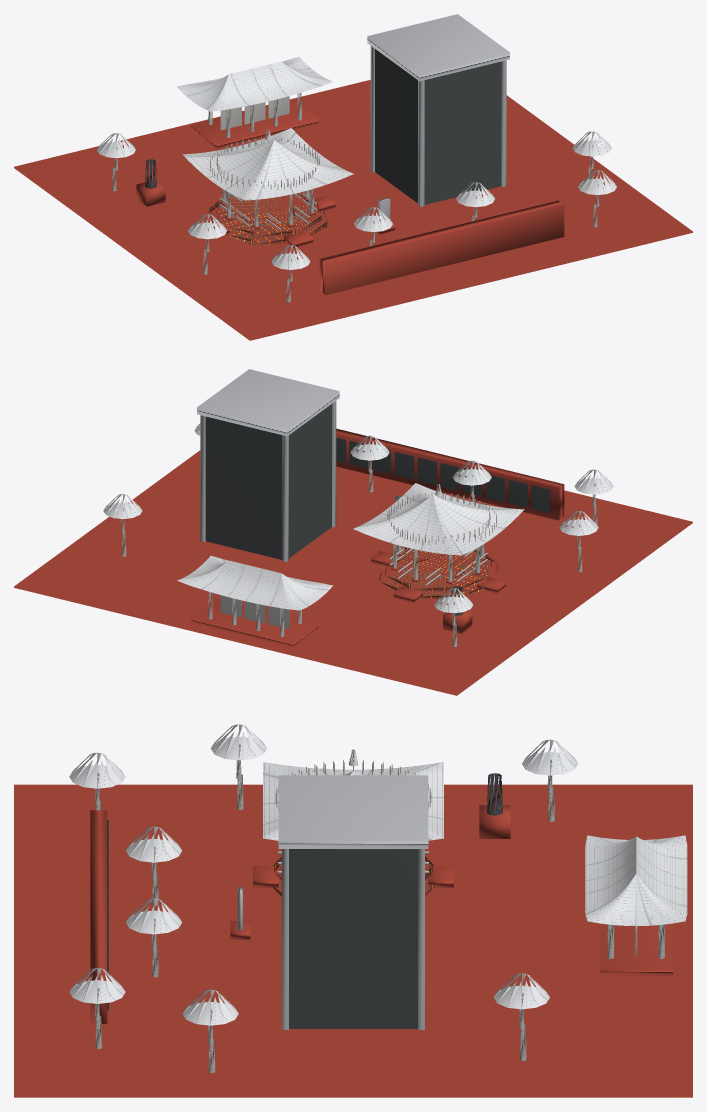
3 renders of one model, top to bottom at view 1: azimuth 30°, elevation 25°; view 2: azimuth 150°, elevation 25°; view 3: azimuth 270°, elevation 25°, orthographic. The views are drawn at different scales.
Parts seen in each view (by area): view 1: tapgol_park_ground_and_plinth, wongaksatap_glass_protective_pavilion, tapgol_samil_independence_monument_wall, tapgol_samilmun_gate, palgakjeong_octagonal_roof, tapgol_historic_pine_trees, palgakjeong_base_and_stairs, palgakjeong_dancheong_timber; view 2: tapgol_park_ground_and_plinth, wongaksatap_glass_protective_pavilion, tapgol_samilmun_gate, tapgol_samil_independence_monument_wall, palgakjeong_octagonal_roof, tapgol_historic_pine_trees, palgakjeong_base_and_stairs, palgakjeong_dancheong_timber; view 3: tapgol_park_ground_and_plinth, wongaksatap_glass_protective_pavilion, tapgol_samilmun_gate, tapgol_historic_pine_trees, palgakjeong_octagonal_roof, tapgol_samil_independence_monument_wall, palgakjeong_base_and_stairs.
Part boxes in pixels (bbox=[...]): tapgol_park_ground_and_plinth: bbox=[14, 80, 692, 340]; wongaksatap_glass_protective_pavilion: bbox=[367, 14, 509, 206]; tapgol_samil_independence_monument_wall: bbox=[319, 200, 564, 294]; tapgol_samilmun_gate: bbox=[177, 56, 332, 148]; palgakjeong_octagonal_roof: bbox=[182, 128, 353, 200]; tapgol_historic_pine_trees: bbox=[97, 131, 616, 302]; palgakjeong_base_and_stairs: bbox=[208, 191, 335, 247]; palgakjeong_dancheong_timber: bbox=[219, 189, 316, 230]; tapgol_park_ground_and_plinth: bbox=[14, 450, 692, 695]; wongaksatap_glass_protective_pavilion: bbox=[197, 369, 339, 561]; tapgol_samilmun_gate: bbox=[177, 556, 332, 647]; tapgol_samil_independence_monument_wall: bbox=[336, 428, 564, 520]; palgakjeong_octagonal_roof: bbox=[353, 483, 524, 555]; tapgol_historic_pine_trees: bbox=[103, 423, 613, 646]; palgakjeong_base_and_stairs: bbox=[371, 546, 505, 602]; palgakjeong_dancheong_timber: bbox=[390, 544, 487, 585]; tapgol_park_ground_and_plinth: bbox=[14, 773, 692, 1097]; wongaksatap_glass_protective_pavilion: bbox=[278, 775, 428, 1029]; tapgol_samilmun_gate: bbox=[585, 835, 687, 975]; tapgol_historic_pine_trees: bbox=[69, 724, 578, 1072]; palgakjeong_octagonal_roof: bbox=[263, 749, 443, 840]; tapgol_samil_independence_monument_wall: bbox=[90, 810, 108, 1023]; palgakjeong_base_and_stairs: bbox=[253, 856, 453, 896].
Bounding box in the file's own units: 52 × 15.2 × 48.
5 materials, 5 textured.
